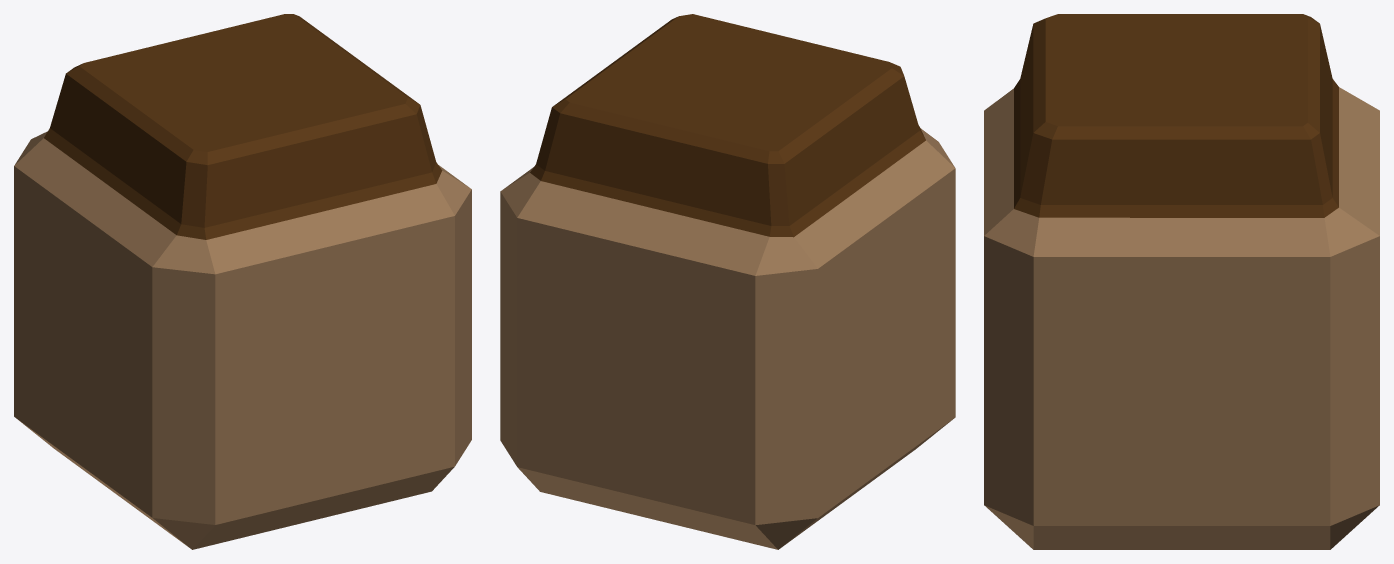
File: Item2.fbx
3 views of the same model, side by side, from view 1: azimuth 30°, elevation 25°; view 2: azimuth 150°, elevation 25°; view 3: azimuth 270°, elevation 25° (orthographic). The views are drawn at different scales.
Visible parts, largest first — view 1: Item1; view 2: Item1; view 3: Item1.
Boxes of the visible parts, x1,y1,x2,y2 form: Item1: [14, 14, 471, 549]; Item1: [500, 14, 955, 549]; Item1: [984, 14, 1379, 549].
Size of the model in its own units: 144 by 167 by 144.
